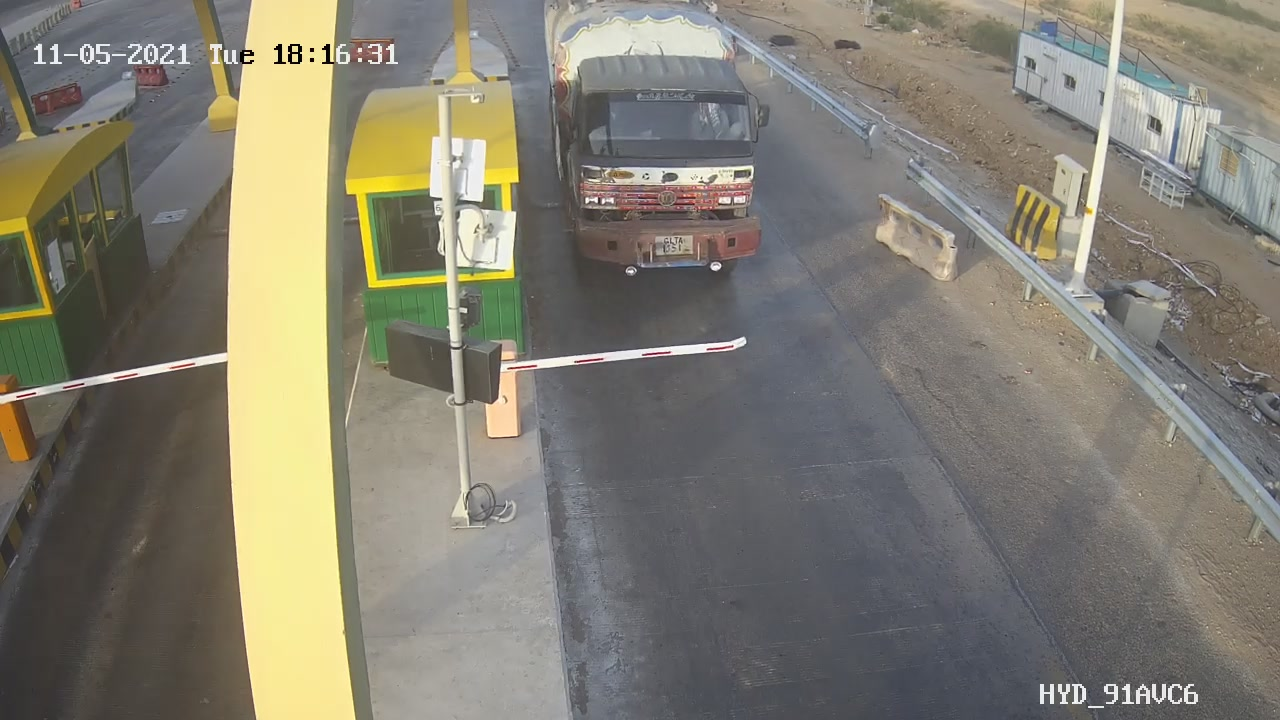F6: (537, 6, 774, 291)
